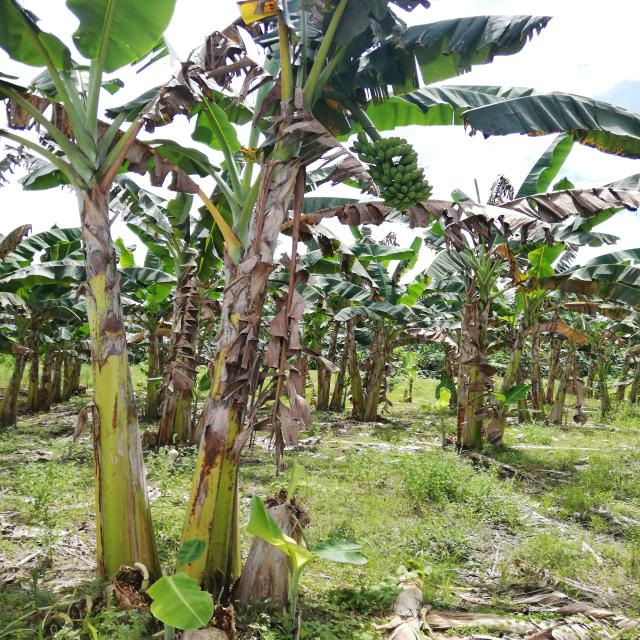Banana-plant: (161, 99, 331, 611), (48, 99, 154, 587), (452, 269, 498, 466)
